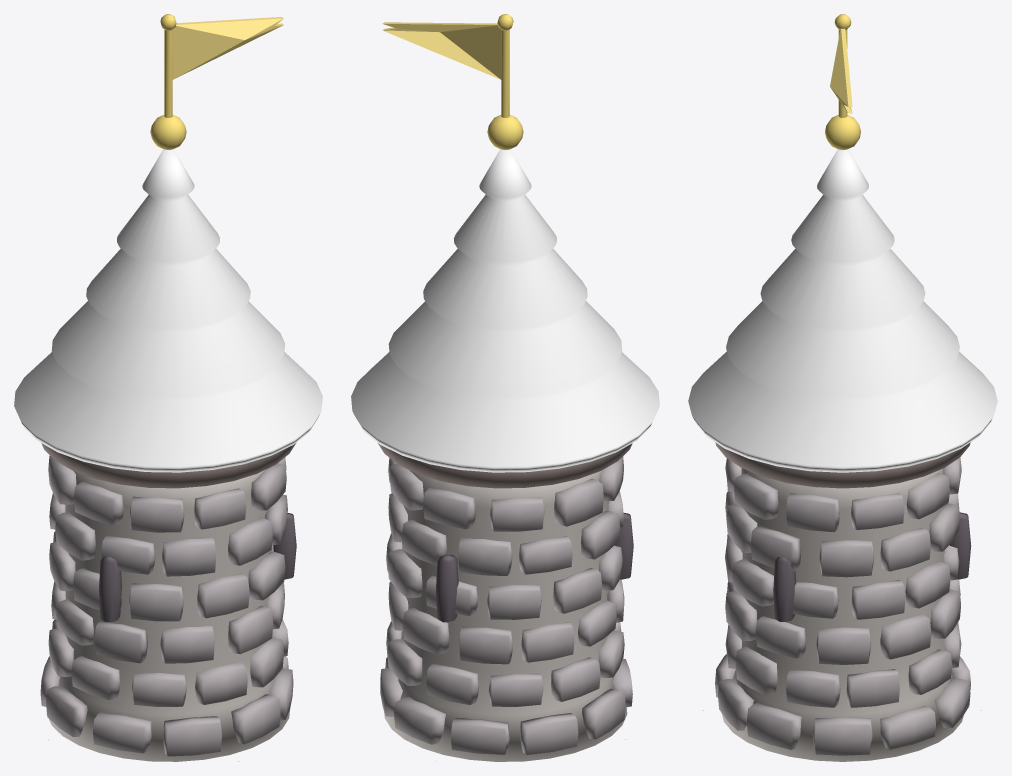
File: ArrowAmbushTurret.glb
3 views of the same model, side by side, from view 1: azimuth 30°, elevation 25°; view 2: azimuth 150°, elevation 25°; view 3: azimuth 270°, elevation 25° (orthographic).
Visible parts, largest first — view 1: Roof, Stone, Mortar, Flag, Trim, Window, Gold; view 2: Roof, Stone, Mortar, Flag, Trim, Window, Gold; view 3: Roof, Stone, Mortar, Trim, Window, Gold, Flag.
Part boxes in pixels (left/top/right/bottom): Roof: left=14, top=149, right=322, bottom=472; Stone: left=40, top=455, right=293, bottom=756; Mortar: left=46, top=469, right=289, bottom=761; Flag: left=172, top=17, right=283, bottom=79; Trim: left=41, top=442, right=296, bottom=488; Window: left=99, top=513, right=296, bottom=621; Gold: left=150, top=14, right=186, bottom=149; Roof: left=351, top=149, right=659, bottom=472; Stone: left=380, top=456, right=632, bottom=754; Mortar: left=384, top=469, right=627, bottom=761; Flag: left=382, top=22, right=501, bottom=79; Trim: left=378, top=443, right=632, bottom=488; Window: left=435, top=513, right=633, bottom=622; Gold: left=487, top=14, right=523, bottom=149; Roof: left=688, top=149, right=997, bottom=472; Stone: left=715, top=457, right=970, bottom=755; Mortar: left=702, top=468, right=981, bottom=761; Trim: left=715, top=442, right=970, bottom=488; Window: left=773, top=512, right=971, bottom=621; Gold: left=825, top=14, right=860, bottom=149; Flag: left=830, top=28, right=852, bottom=113.
Size of the model in its own units: 5.12 by 12.69 by 5.12.
